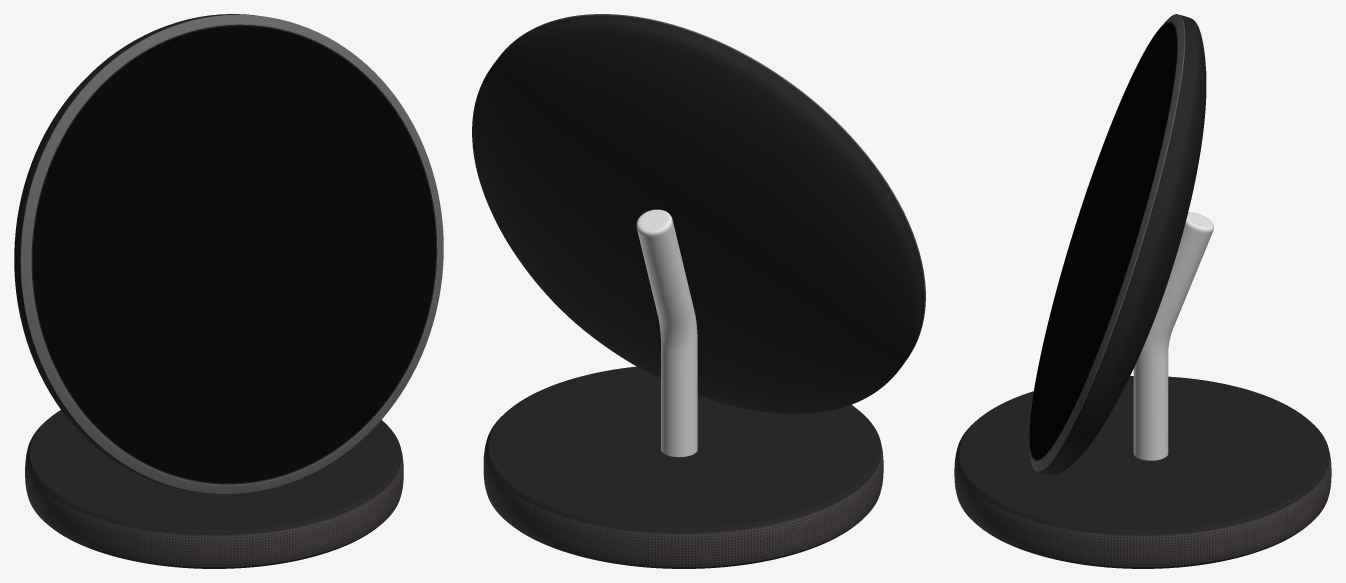
File: peach.glb
3 views of the same model, side by side, from view 1: azimuth 30°, elevation 25°; view 2: azimuth 150°, elevation 25°; view 3: azimuth 270°, elevation 25° (orthographic). The views are drawn at different scales.
Parts seen in each view (by area): view 1: 1, 2; view 2: 1, 2, 3; view 3: 2, 1, 3.
Part boxes in pixels (<box>): 1: <box>14,14,443,494</box>; 2: <box>25,410,403,568</box>; 1: <box>472,14,925,413</box>; 2: <box>483,366,883,568</box>; 3: <box>636,209,697,457</box>; 2: <box>954,376,1331,568</box>; 1: <box>1029,14,1206,475</box>; 3: <box>1133,212,1213,460</box>.
Size of the model in its own units: 0.1535 by 0.1607 by 0.121.
Materials: 6 (2 with a texture image).
